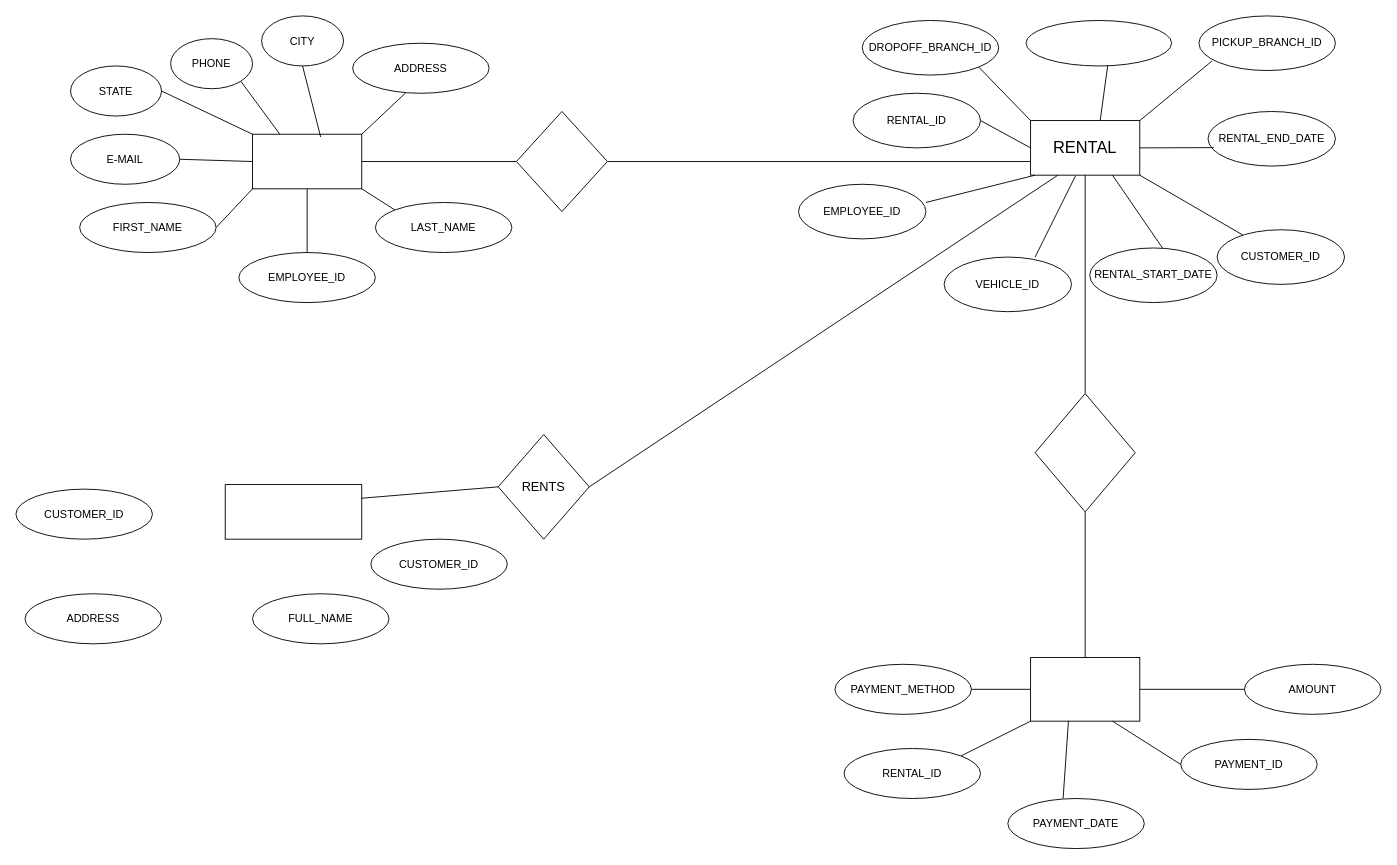
The diagram is 1397 pixels wide and 865 high, and some of its shapes have lost their labels. The shapes that lost their labels are listed below. From the top down, each one's centre as x and y in pixels, then its label:
At point 1098,43: "ACTUAL_RETURN_DATE".
At point 307,161: "EMPLOYEES".
At point 561,161: "HANDELS".
At point 1084,452: "RECEIVES PAYMENTS".
At point 293,511: "CUSTOMERS".
At point 1085,689: "PAYMENTS".
